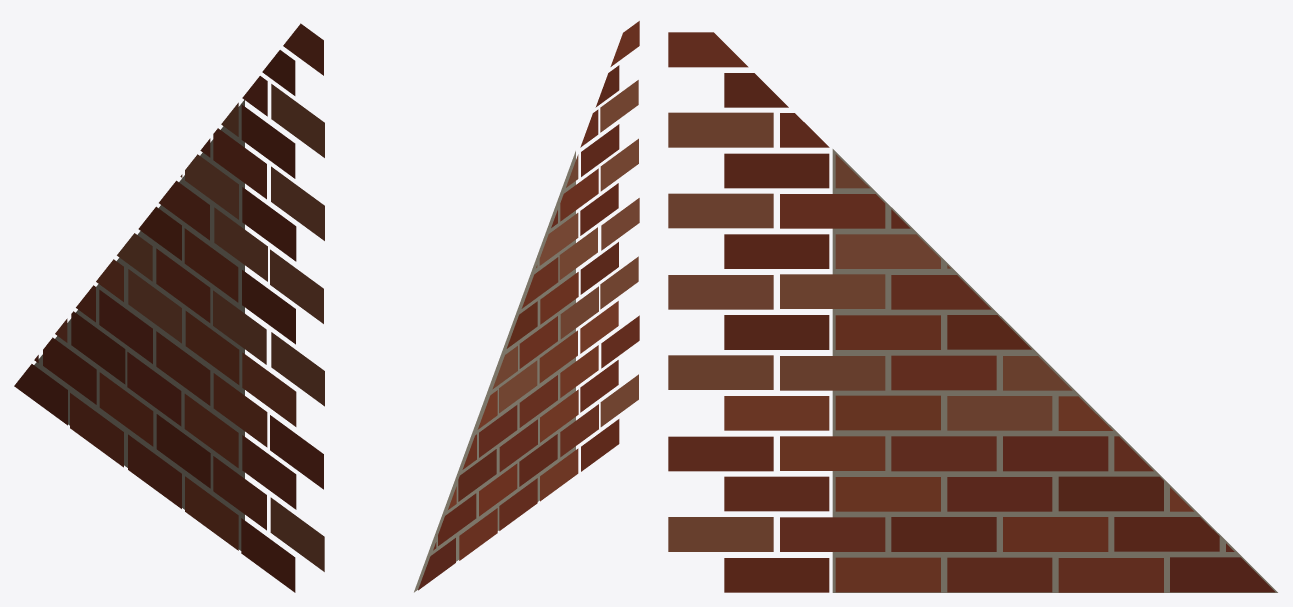
Rendered from wall-brick-gable-l-steep.glb.
3 renders of one model, left to right at view 1: azimuth 30°, elevation 25°; view 2: azimuth 150°, elevation 25°; view 3: azimuth 270°, elevation 25°, orthographic. The views are drawn at different scales.
Visible parts, largest first — view 1: wall-brick-gable-l-steep; view 2: wall-brick-gable-l-steep; view 3: wall-brick-gable-l-steep.
Part boxes in pixels (x1=…): wall-brick-gable-l-steep: x1=14, y1=23, x2=324, y2=592; wall-brick-gable-l-steep: x1=414, y1=21, x2=639, y2=592; wall-brick-gable-l-steep: x1=668, y1=32, x2=1277, y2=592.
Size of the model in its own units: 0.0999 by 1.39 by 1.37.
